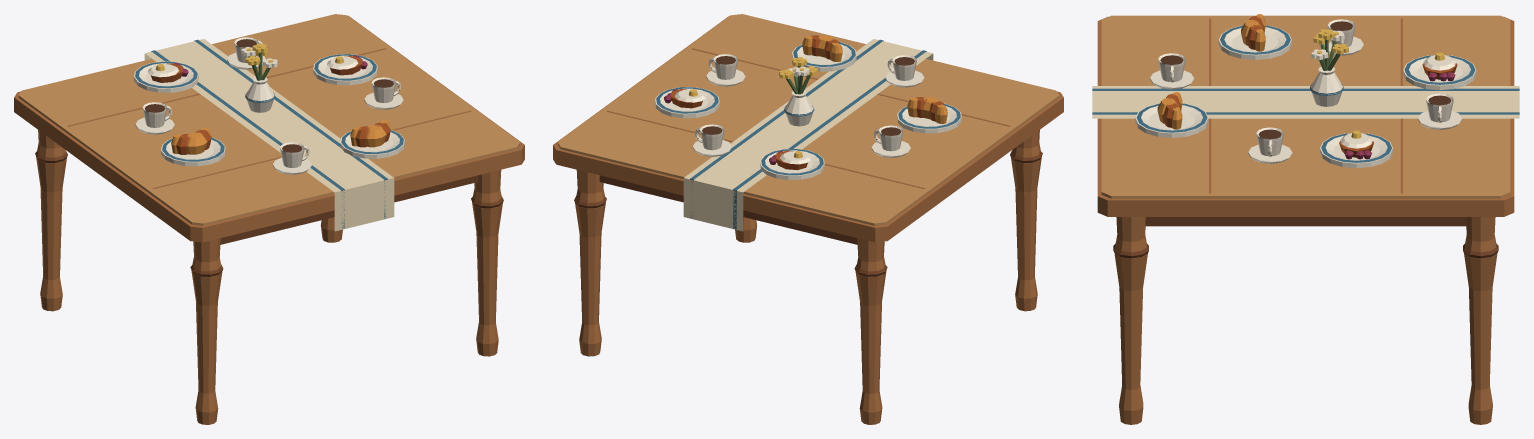
The model's file is dining-four.glb.
3 renders of one model, left to right at view 1: azimuth 30°, elevation 25°; view 2: azimuth 150°, elevation 25°; view 3: azimuth 270°, elevation 25°, orthographic. The views are drawn at different scales.
Parts seen in each view (by area): view 1: dining-four; view 2: dining-four; view 3: dining-four.
Boxes of the visible parts, left/top/right/bottom form: dining-four: left=14, top=14, right=524, bottom=424; dining-four: left=553, top=14, right=1063, bottom=424; dining-four: left=1092, top=14, right=1519, bottom=424.
Size of the model in its own units: 1.46 by 1.15 by 1.44.
